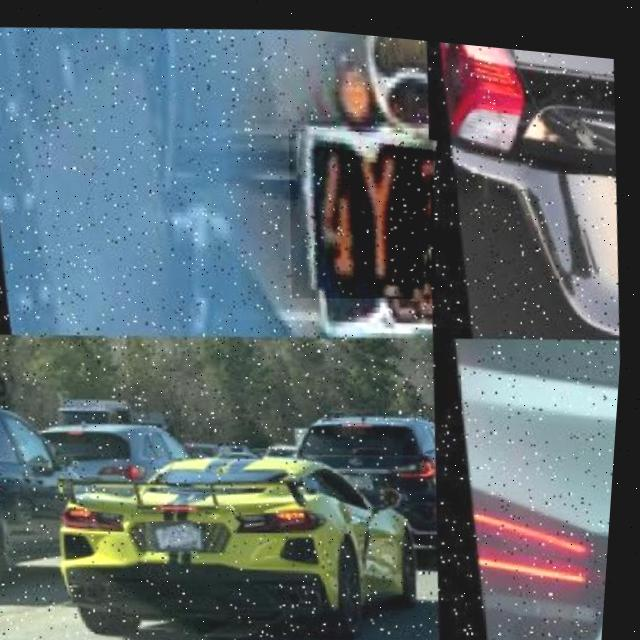LicensePlate: (281, 110, 448, 302), (152, 516, 204, 550)
